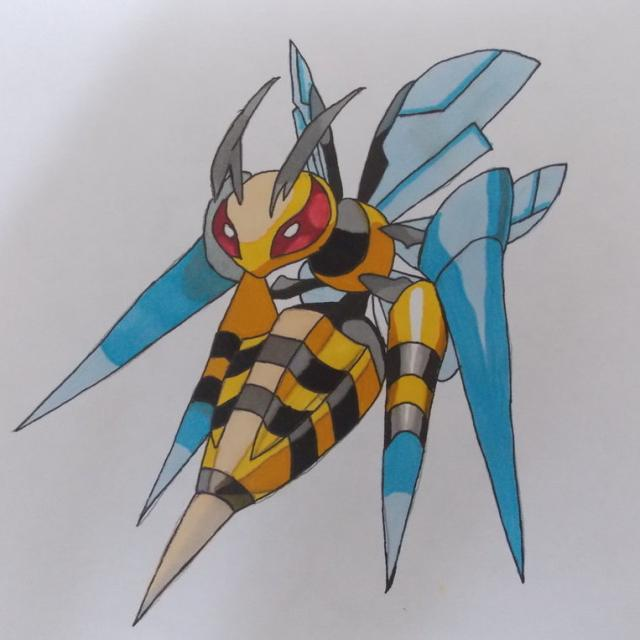Beedrill: (84, 55, 554, 598)
